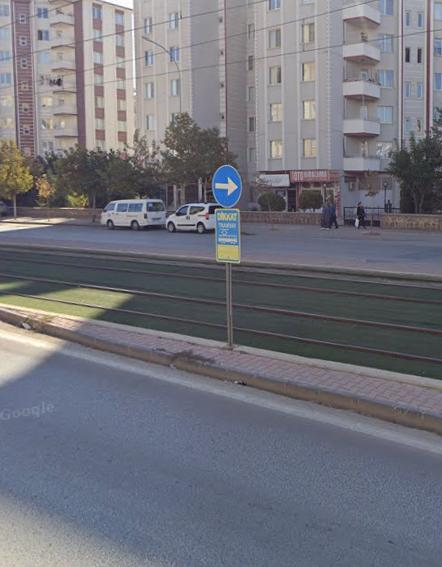turnleft: (212, 165, 243, 207)
